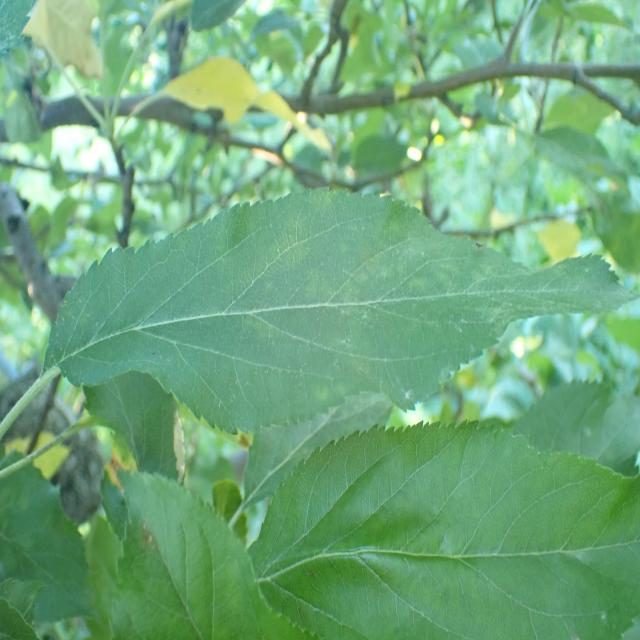scab: (299, 234, 632, 351)
